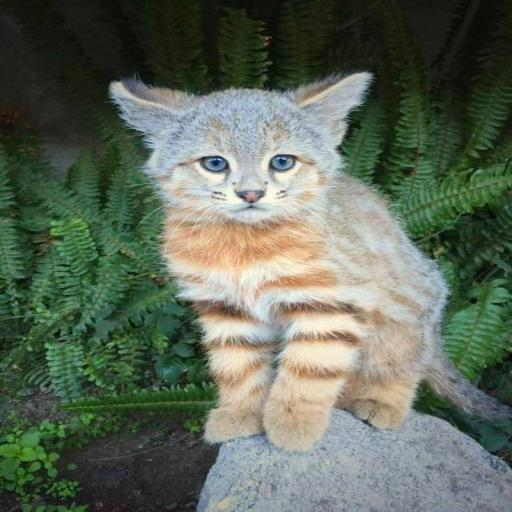cat: (109, 72, 511, 450)
